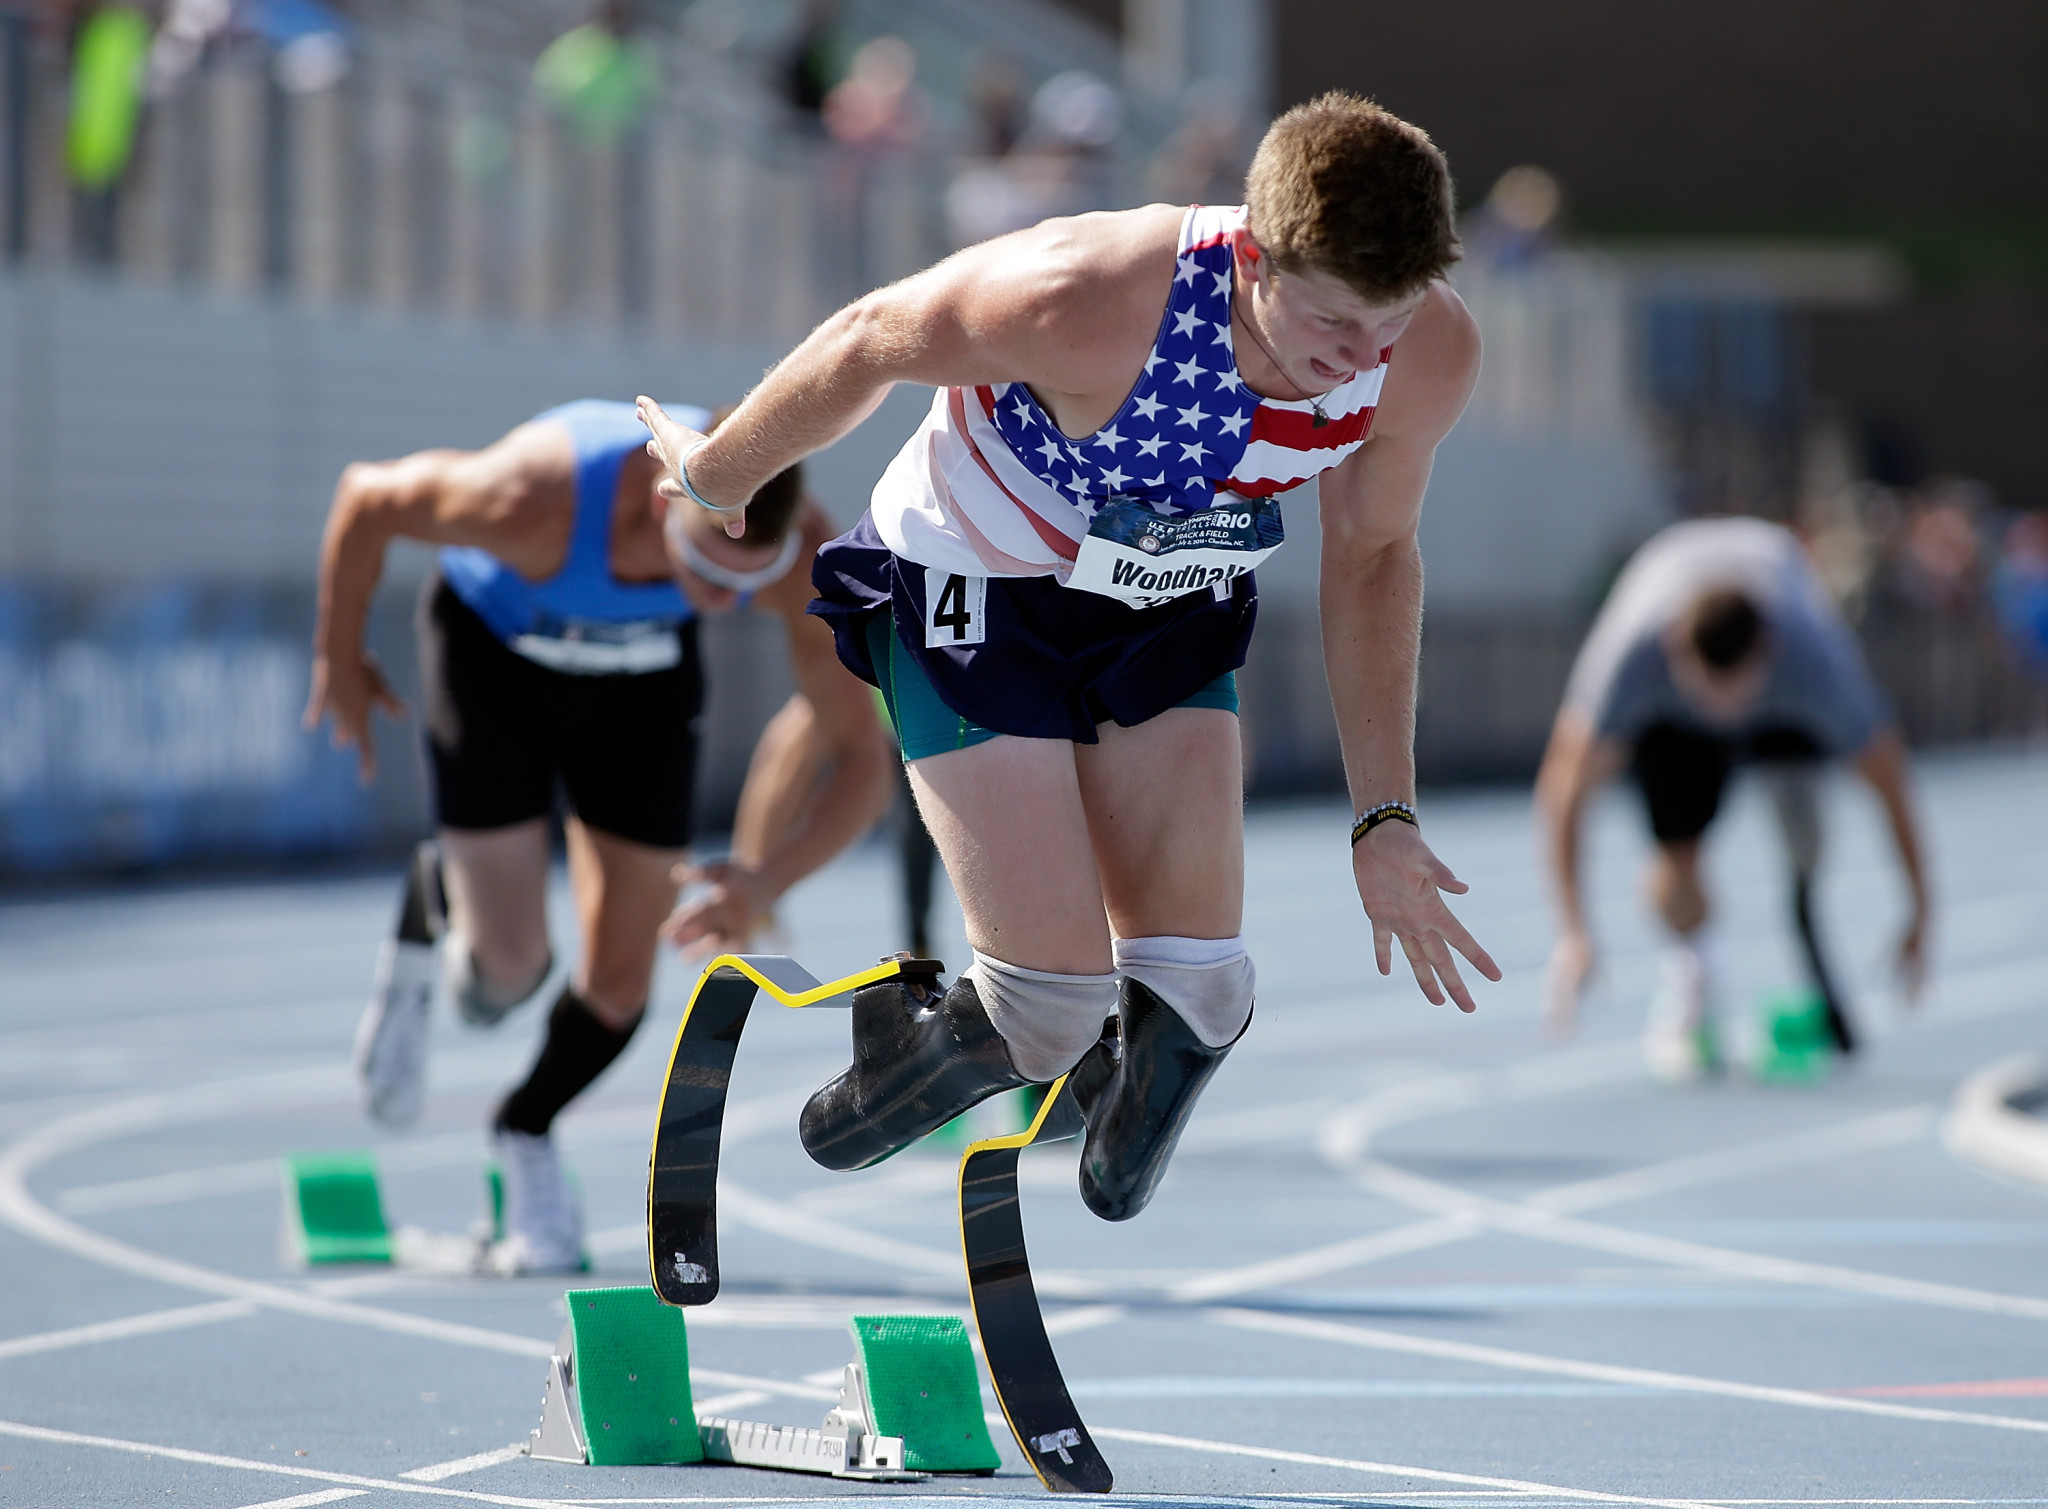runner: (690, 107, 1493, 1476), (301, 401, 878, 1231), (1517, 515, 1967, 1088)
